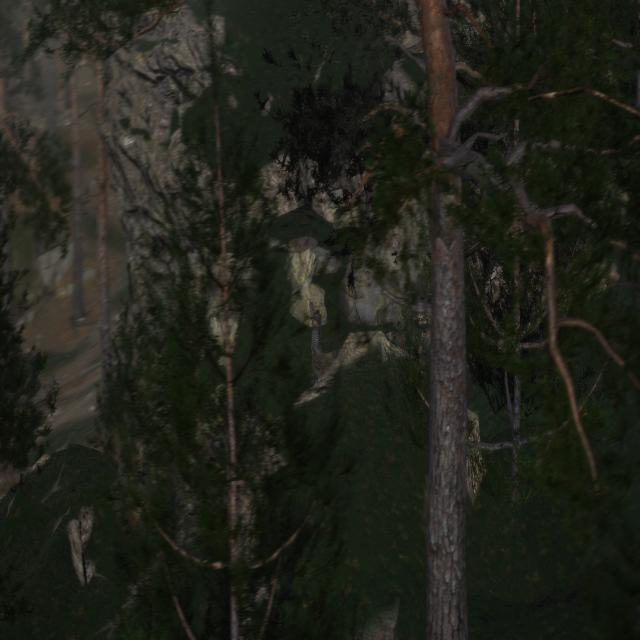Human: (302, 286, 334, 398)
